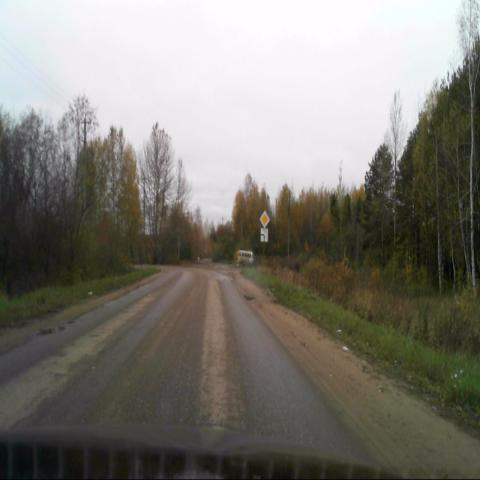2_1: (260, 210, 268, 226)
8_13: (260, 228, 268, 241)
